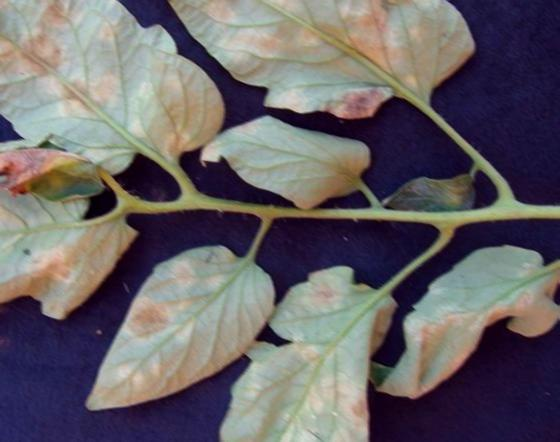Tomato mold leaf: (110, 0, 503, 126), (0, 0, 239, 187), (85, 246, 283, 426), (219, 259, 403, 442), (381, 248, 560, 405), (0, 194, 137, 323), (209, 110, 387, 208)
